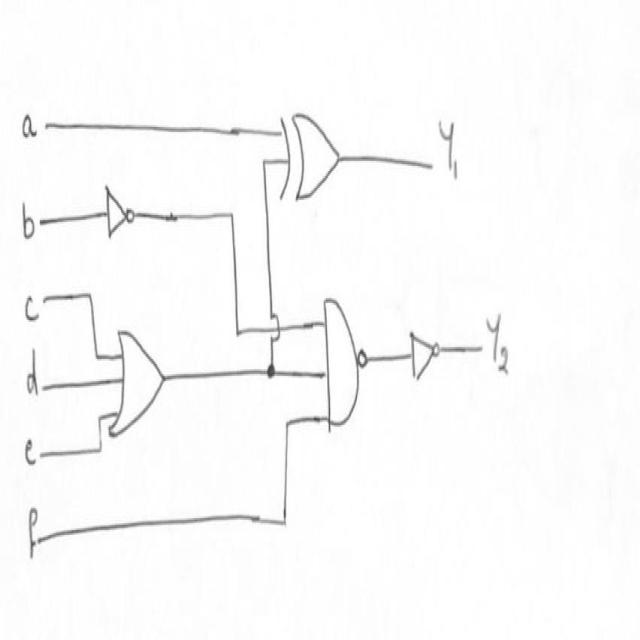NAND: (316, 284, 376, 446)
NOT: (404, 313, 443, 391), (100, 179, 138, 249)
OR: (106, 315, 169, 451)
XOR: (273, 98, 348, 220)
